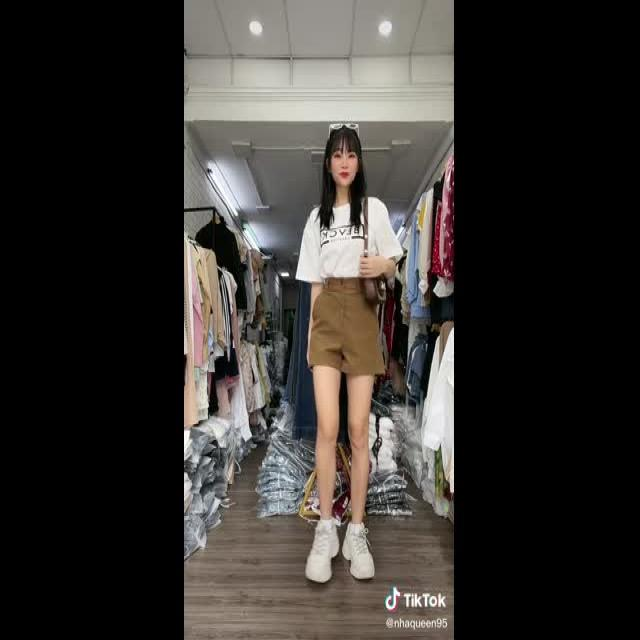clothes: (298, 199, 404, 376)
